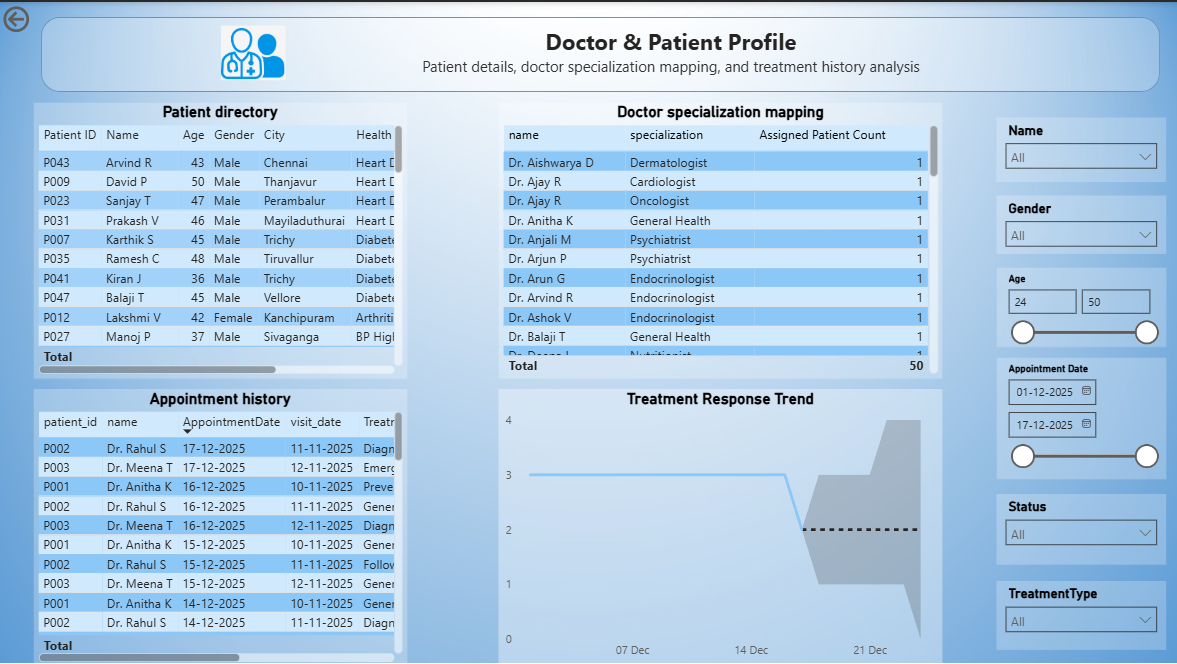

What the dashboard file says about the page in this screenshot:
{"tool":"powerbi","page":{"name":"Doctor & Patient Profile","canvas":[1280,720],"ordinal":12},"visuals":[{"type":"tableEx","title":"Doctor specialization mapping","fields":{"Values":["Doctors.name","Doctors.specialization","Doctors.Assigned Patient Count"]},"box":[541.6,109,481.5,299.3],"z":0},{"type":"tableEx","title":"Patient directory","fields":{"Values":["Patients.Patient ID","Patients.Name","Patients.Age","Patients.Gender","Patients.City","Patients.Health Conditions","Patients.Risk Score"]},"box":[37.4,109,405,299.3],"z":1000},{"type":"lineChart","title":"Treatment Response Trend","fields":{"Category":["Appointments.AppointmentDate"],"Y":["CountNonNull(Appointments.TreatmentType)"]},"box":[541.6,419.6,481.5,300.9],"z":2000},{"type":"slicer","fields":{"Values":["Doctors.name"]},"box":[1081.7,125.2,183.8,69.9],"z":3000},{"type":"slicer","fields":{"Values":["Patients.Gender"]},"box":[1081.7,209.8,183.8,63.4],"z":4000},{"type":"slicer","fields":{"Values":["Patients.Age"]},"box":[1081.7,287.9,183.8,86.2],"z":5000},{"type":"slicer","fields":{"Values":["Appointments.Appointment date"]},"box":[1081.7,385.5,183.8,131.8],"z":6000},{"type":"slicer","fields":{"Values":["Appointments.Status"]},"box":[1081.7,533.5,183.8,76.4],"z":7000},{"type":"slicer","fields":{"Values":["Appointments.TreatmentType"]},"box":[1081.7,627.8,183.8,74.8],"z":8000},{"type":"tableEx","title":"Appointment history","fields":{"Values":["Doctors.patient_id","Doctors.name","Appointments.AppointmentDate","Doctors.visit_date","Appointments.TreatmentType","Appointments.ResponseScore","Appointments.Status"]},"box":[37.4,419.6,405,300.9],"z":9000},{"type":"shape","box":[45.5,16.3,1213.4,81.3],"z":10000},{"type":"actionButton","box":[0,0,37.4,37.4],"z":11000},{"type":"image","box":[240.7,19.5,69.9,71.6],"z":12000},{"type":"textbox","box":[323.7,21.1,810,71.6],"z":12001}]}

Visuals, with their boxes on the page's 1280x720 design canvas (x1, y1, x2, y2). These are canvas units, not pixel positions in the 1177x664 screenshot, which may show the page scaled, cropped or inside an application window:
"Doctor specialization mapping" tableEx: crop(542, 109, 1023, 408)
"Patient directory" tableEx: crop(37, 109, 442, 408)
"Treatment Response Trend" lineChart: crop(542, 420, 1023, 720)
slicer - Doctors.name: crop(1082, 125, 1266, 195)
slicer - Patients.Gender: crop(1082, 210, 1266, 273)
slicer - Patients.Age: crop(1082, 288, 1266, 374)
slicer - Appointments.Appointment date: crop(1082, 386, 1266, 517)
slicer - Appointments.Status: crop(1082, 534, 1266, 610)
slicer - Appointments.TreatmentType: crop(1082, 628, 1266, 703)
"Appointment history" tableEx: crop(37, 420, 442, 720)
shape: crop(46, 16, 1259, 98)
actionButton: crop(0, 0, 37, 37)
image: crop(241, 20, 311, 91)
textbox: crop(324, 21, 1134, 93)
